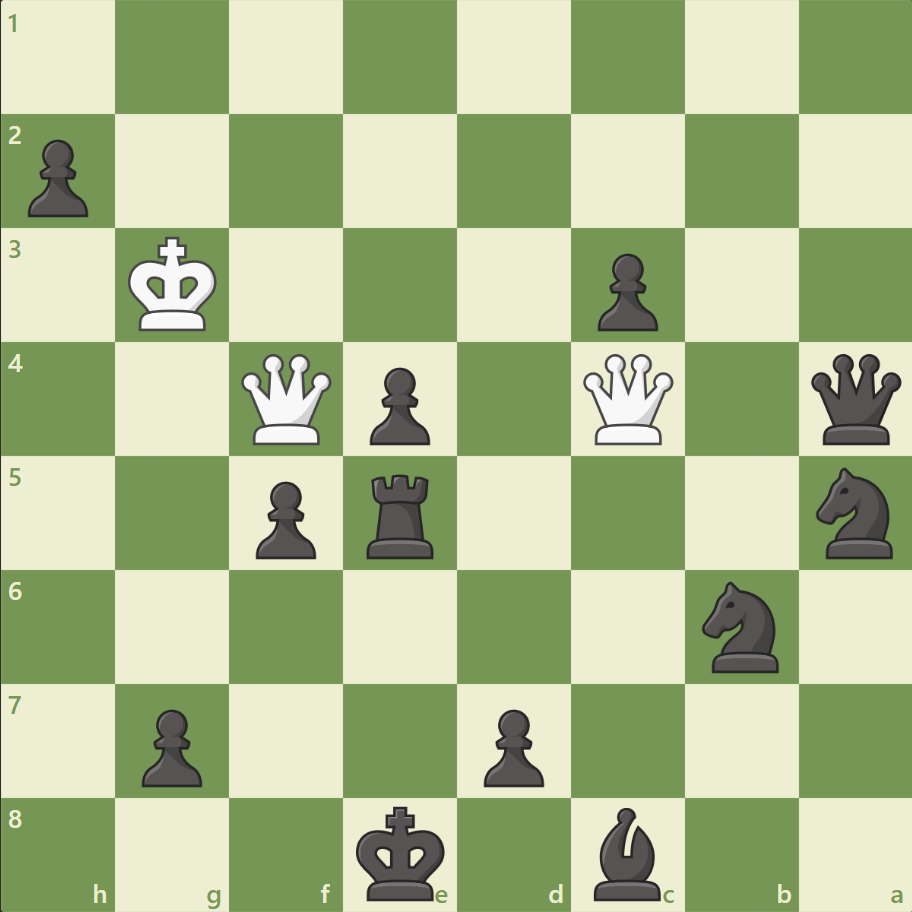K: (124, 231, 224, 339)
Q: (578, 349, 677, 449), (237, 349, 336, 449)
b: (585, 801, 669, 904)
k: (351, 798, 451, 906)
n: (806, 461, 903, 564), (692, 575, 789, 677)
p: (474, 700, 549, 791), (133, 700, 208, 791), (247, 473, 322, 564), (20, 132, 95, 223), (361, 359, 435, 450), (588, 246, 662, 337)
q: (805, 349, 904, 449)
r: (360, 466, 442, 563)
